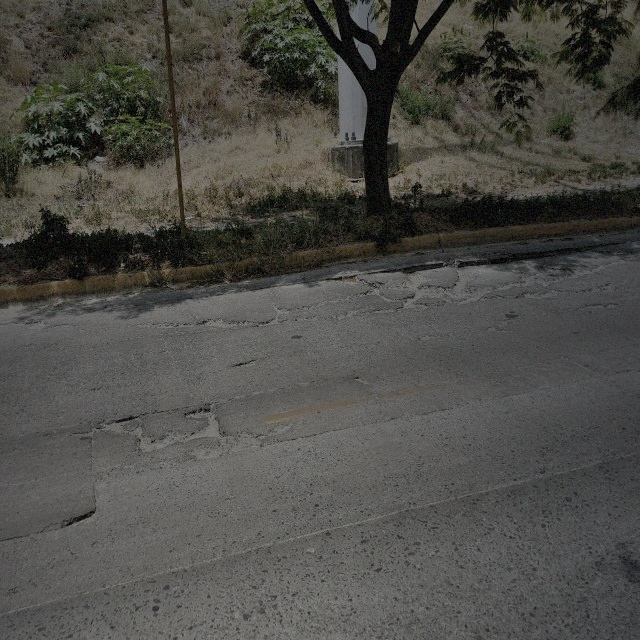pothole: (402, 258, 529, 306), (96, 414, 178, 461), (186, 406, 233, 454), (92, 412, 143, 441), (222, 430, 272, 457), (135, 428, 179, 454), (364, 278, 395, 312), (580, 277, 627, 297), (204, 314, 250, 333), (269, 301, 295, 324), (523, 288, 560, 304), (584, 296, 618, 313), (400, 288, 420, 315), (338, 271, 363, 289), (232, 356, 258, 368), (354, 374, 368, 385)
